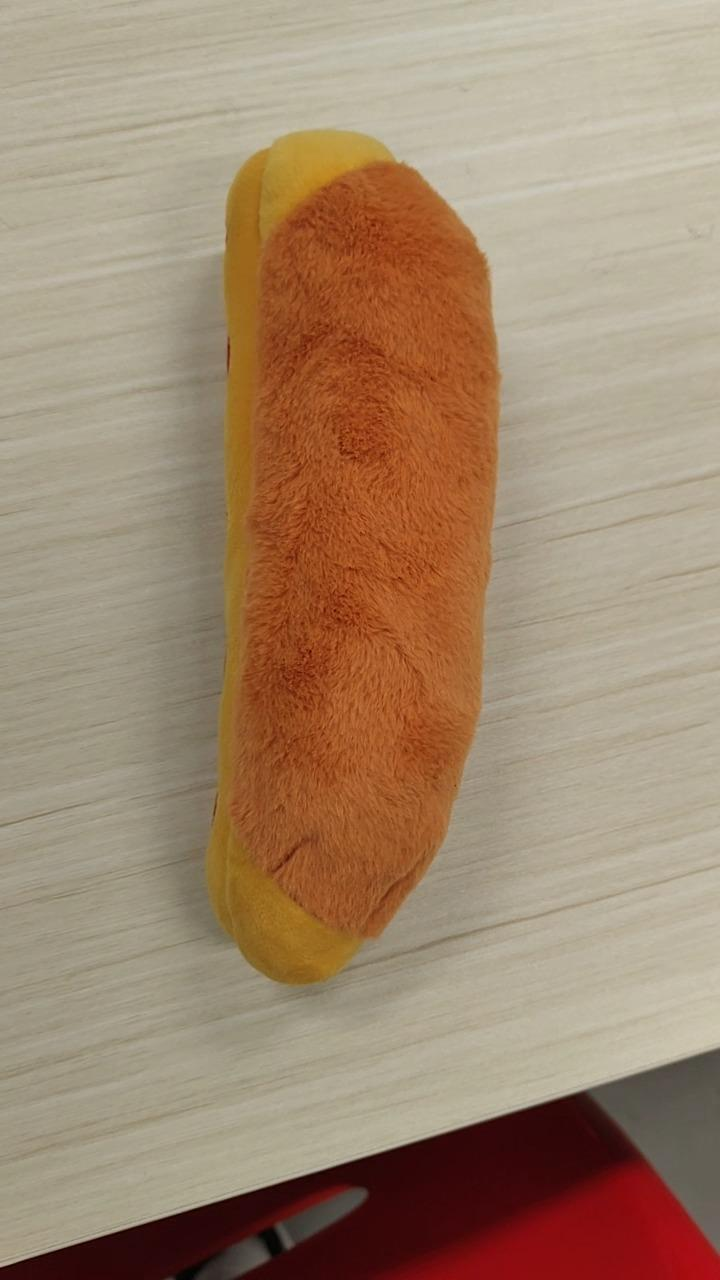hotdog: (203, 126, 502, 985)
